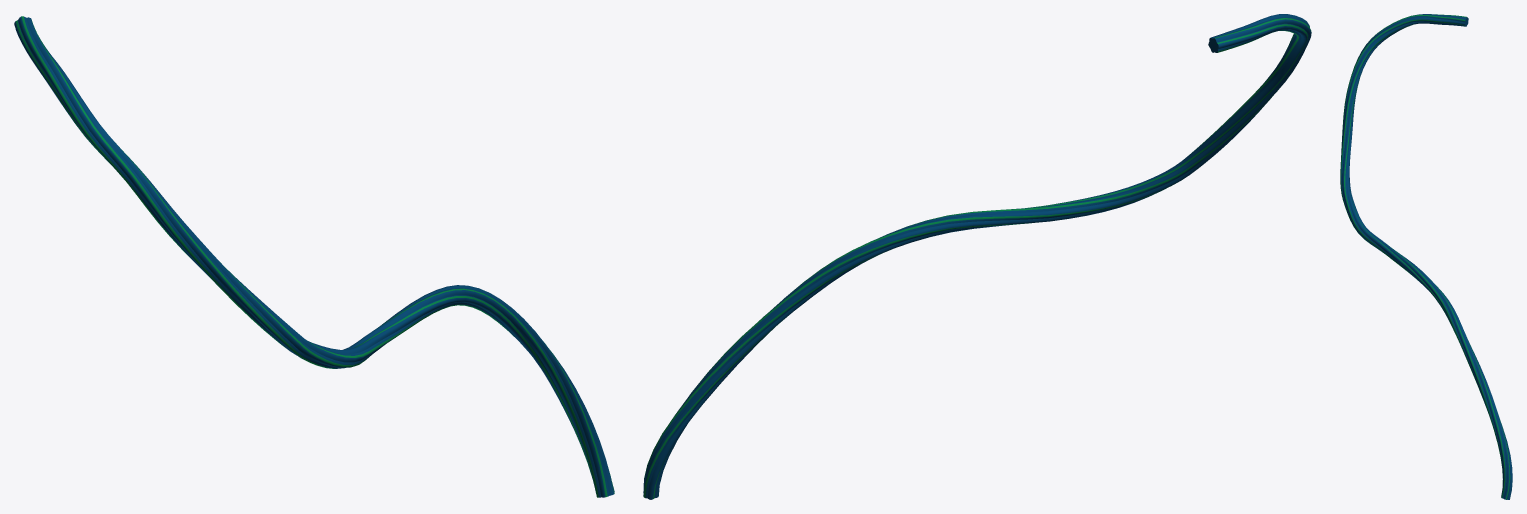
Rendered from cables 7.FBX.
3 views of the same model, side by side, from view 1: azimuth 30°, elevation 25°; view 2: azimuth 150°, elevation 25°; view 3: azimuth 270°, elevation 25° (orthographic). The views are drawn at different scales.
Visible parts, largest first — view 1: Loft009; view 2: Loft009; view 3: Loft009.
Boxes of the visible parts, x1,y1,x2,y2 form: Loft009: (14, 16, 614, 497); Loft009: (643, 14, 1311, 499); Loft009: (1340, 14, 1512, 499).
Bounding box in the file's own units: 648 × 620 × 293.
